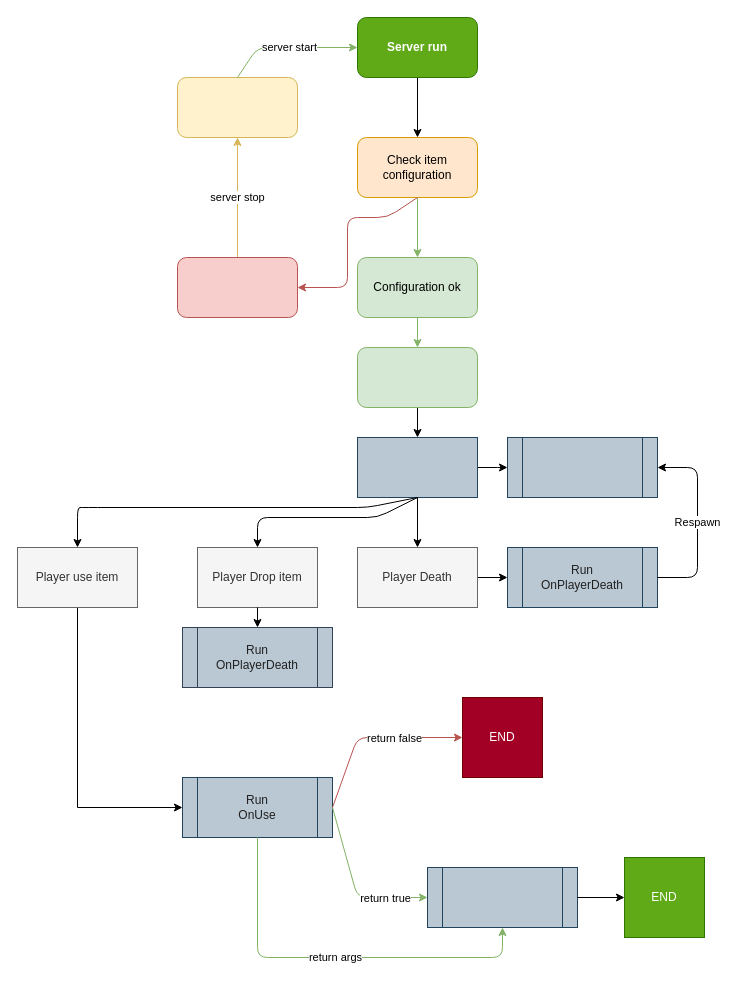
Image size: 738x983. Some labels were removed from this diagram. The centre of each missing label's shape, as x and y in pixels:
Configuration error: (x=237, y=287)
Fix configuration: (x=237, y=107)
Player connect: (x=417, y=467)
Run OnPlayerSpawn: (x=582, y=467)
Run OnUsed: (x=502, y=897)
server fully loaded: (x=417, y=377)
